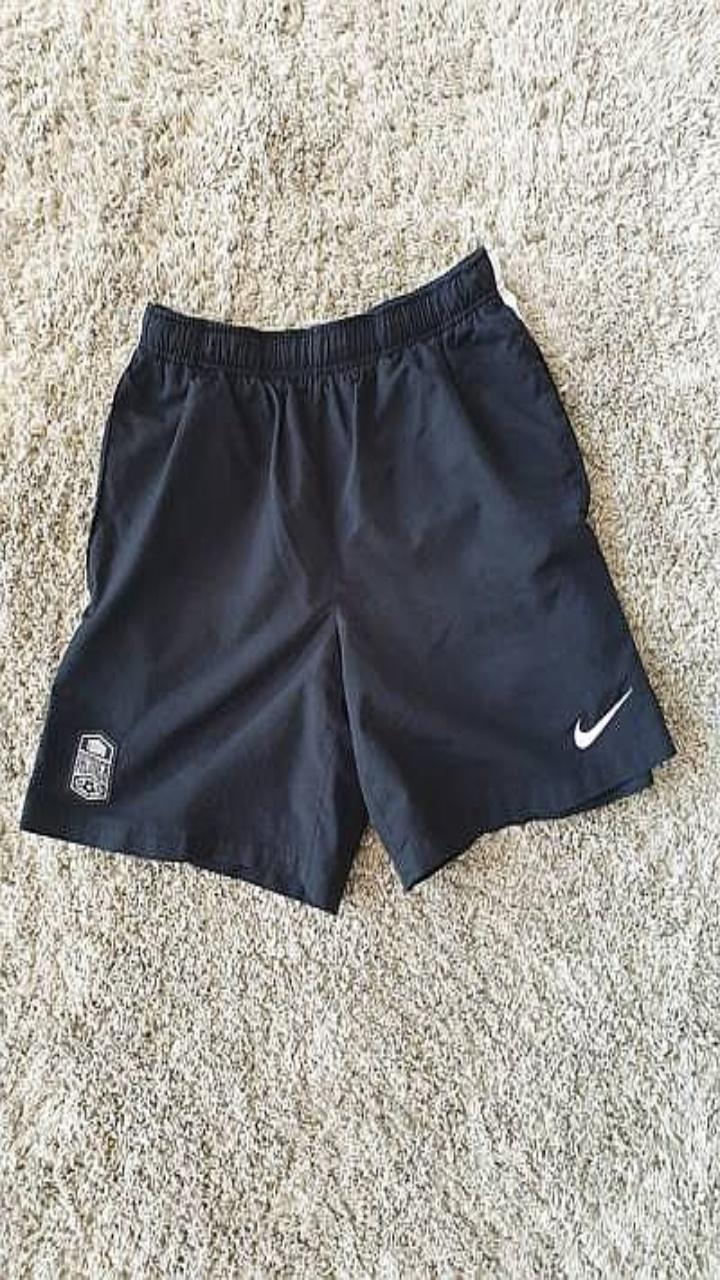Shorts: (21, 248, 674, 912)
